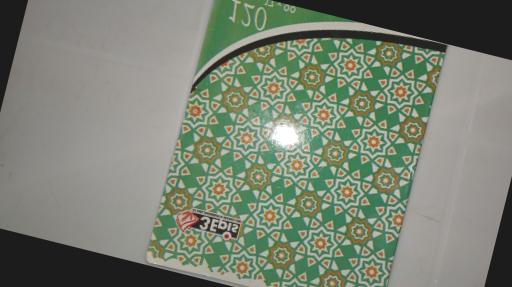notebook: (145, 0, 448, 287)
